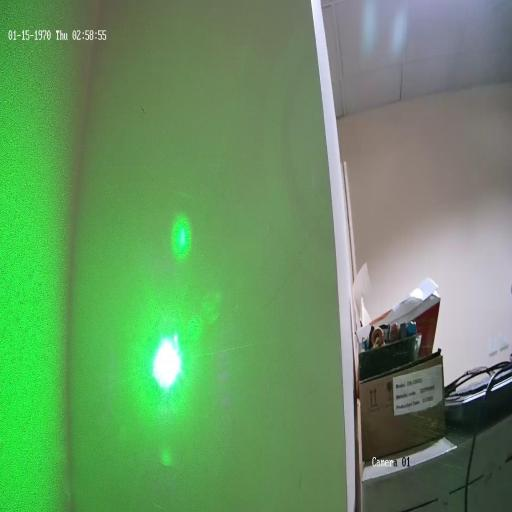laser: (141, 308, 192, 411)
